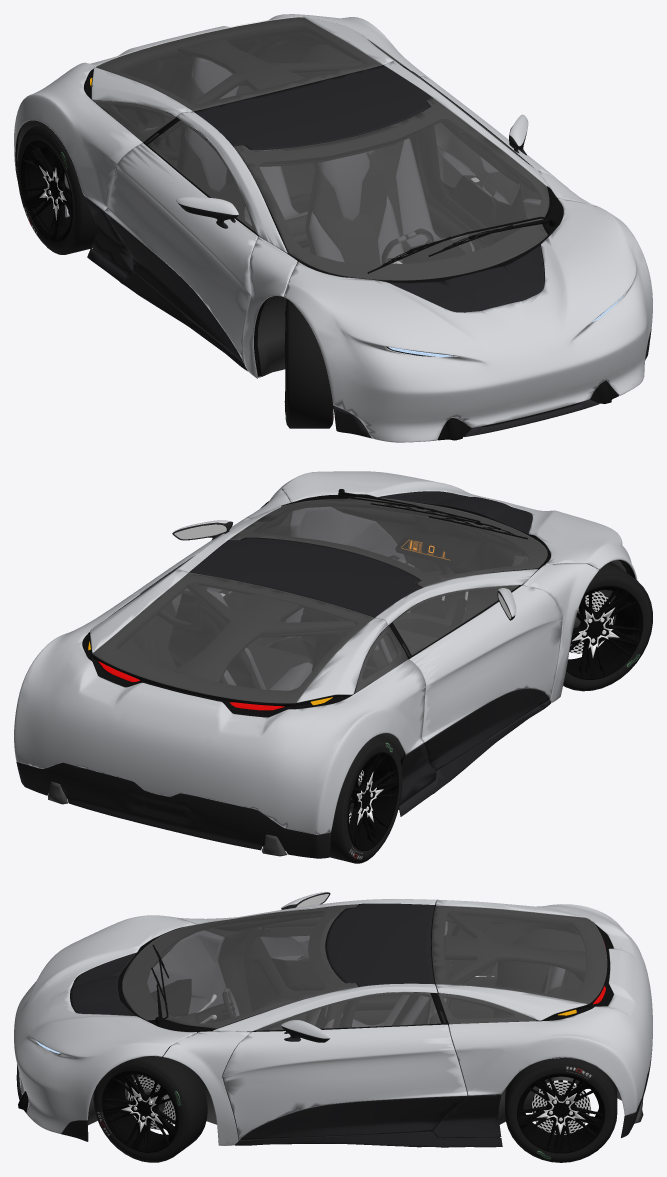
The model's file is concept-car.glb.
3 views of the same model, one above another, from view 1: azimuth 30°, elevation 25°; view 2: azimuth 150°, elevation 25°; view 3: azimuth 270°, elevation 25° (orthographic). The views are drawn at different scales.
Parts seen in each view (by area): view 1: BodyRearPanelsColor1, BodyWindshield, BodyWindshieldGasket, BodyRoofPanel, InteriorDashSides, InteriorDashMid, InteriorSeatsColor2, object 20, WheelFrontLRim, BodyUnderside, InteriorMid, InteriorSteeringDash; view 2: BodyRearPanelsColor1, BodyWindshield, BodyRoofPanel, BodyWindshieldGasket, InteriorDashMid, WheelFrontLRim, object 20, InteriorDashSides, InteriorSeatsColor2, InteriorFloormats, InteriorSteeringDash, BodyUnderside (+2 smaller); view 3: BodyRearPanelsColor1, BodyWindshield, BodyRoofPanel, BodyWindshieldGasket, object 20, WheelFrontLRim, InteriorDashMid, InteriorDashSides, InteriorMid, WheelFrontLBrakeDisc, BodyUnderside, InteriorSeatsColor2 (+1 smaller).
Boxes of the visible parts, x1,y1,x2,y2 form: BodyRearPanelsColor1: (14,14,652,442); BodyWindshield: (94,16,549,280); BodyWindshieldGasket: (16,17,618,440); BodyRoofPanel: (15,65,651,438); InteriorDashSides: (185,57,540,349); InteriorDashMid: (15,33,526,281); InteriorSeatsColor2: (180,78,472,264); object 20: (17,124,333,428); WheelFrontLRim: (20,140,285,414); BodyUnderside: (16,78,606,424); InteriorMid: (93,173,557,376); InteriorSteeringDash: (404,239,465,263); BodyRearPanelsColor1: (14,471,637,834); BodyWindshield: (92,497,547,703); BodyRoofPanel: (16,491,550,858); BodyWindshieldGasket: (82,489,635,753); InteriorDashMid: (48,502,528,850); WheelFrontLRim: (347,585,643,851); object 20: (260,501,652,863); InteriorDashSides: (171,506,528,690); InteriorSeatsColor2: (246,628,437,689); InteriorFloormats: (269,598,467,659); InteriorSteeringDash: (395,533,462,566); BodyUnderside: (48,560,626,856); BodyRearPanelsColor1: (14,892,652,1145); BodyWindshield: (122,904,606,1030); BodyRoofPanel: (16,892,652,1147); BodyWindshieldGasket: (18,901,613,1144); object 20: (93,1054,617,1162); WheelFrontLRim: (102,1070,605,1153); InteriorDashMid: (118,907,613,1030); InteriorDashSides: (147,921,565,1028); InteriorMid: (205,922,499,1143); WheelFrontLBrakeDisc: (127,1075,590,1134); BodyUnderside: (39,927,643,1125); InteriorSeatsColor2: (304,973,560,1028).
Size of the model in its own units: 2.54 by 1.15 by 4.36.
22 materials, 3 textured.
